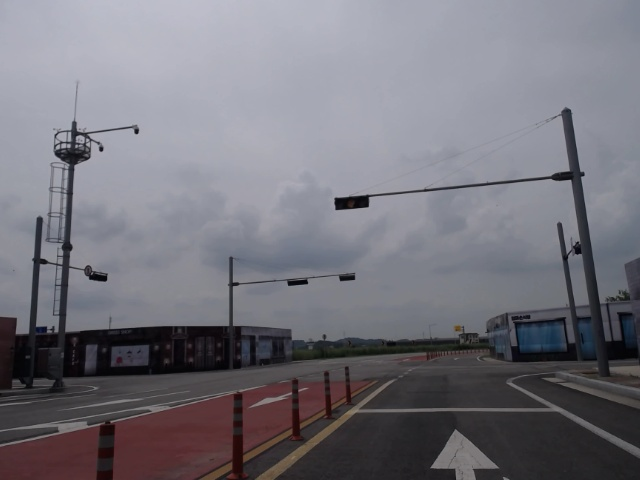orange_3: (335, 195, 369, 210)
